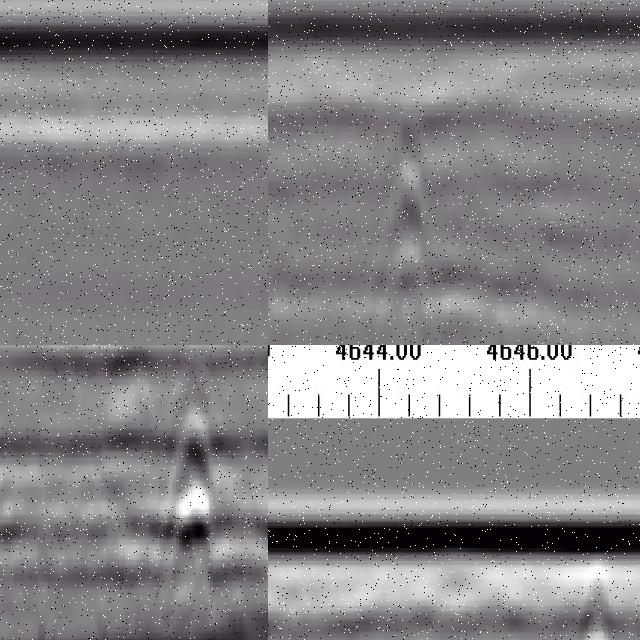crack: (385, 114, 433, 346), (580, 554, 617, 640)
loose: (134, 375, 269, 620)
